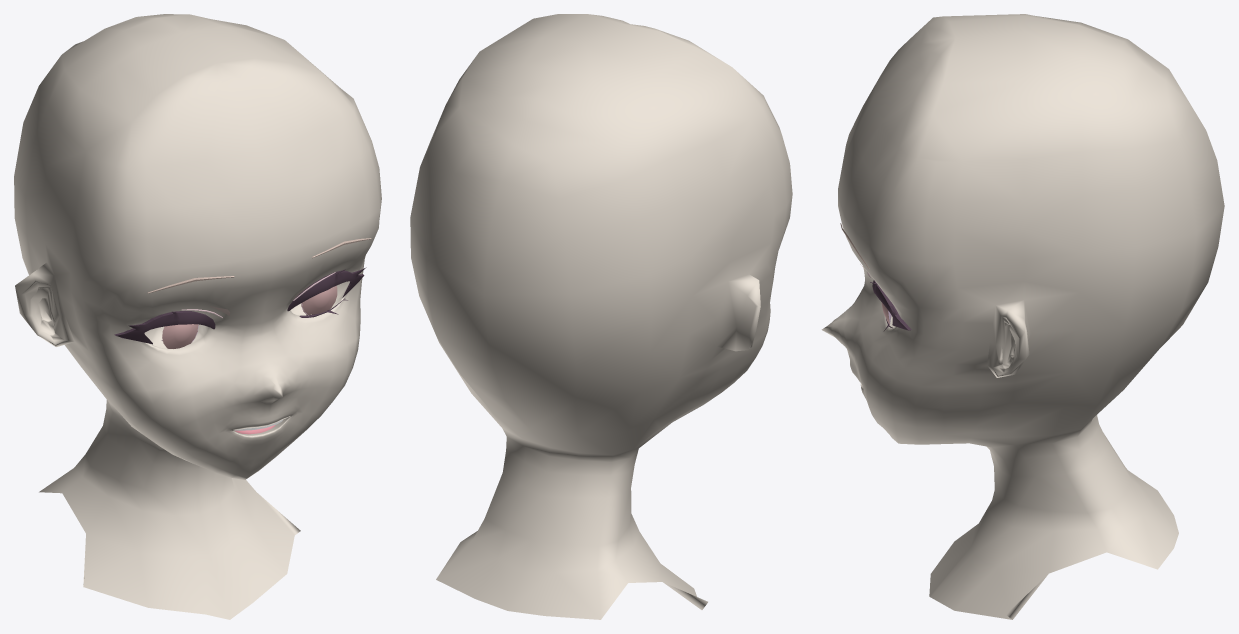
Rendered from TEST_BELA2 1.fbx.
3 renders of one model, left to right at view 1: azimuth 30°, elevation 25°; view 2: azimuth 150°, elevation 25°; view 3: azimuth 270°, elevation 25°, orthographic. The views are drawn at different scales.
Visible parts, largest first — view 1: face6, LUpper_eyelashes, RUpper_eyelashes, Leye_Crystal, Reye_Crystal; view 2: face6; view 3: face6.
Part boxes in pixels (<box>): face6: <box>14,14,381,619</box>; LUpper_eyelashes: <box>114,310,215,344</box>; RUpper_eyelashes: <box>287,267,366,311</box>; Leye_Crystal: <box>162,324,198,348</box>; Reye_Crystal: <box>301,285,337,315</box>; face6: <box>410,14,792,619</box>; face6: <box>821,14,1224,619</box>.
Bounding box in the file's own units: 17.93 × 28.17 × 18.24.
3 materials, 1 textured.
